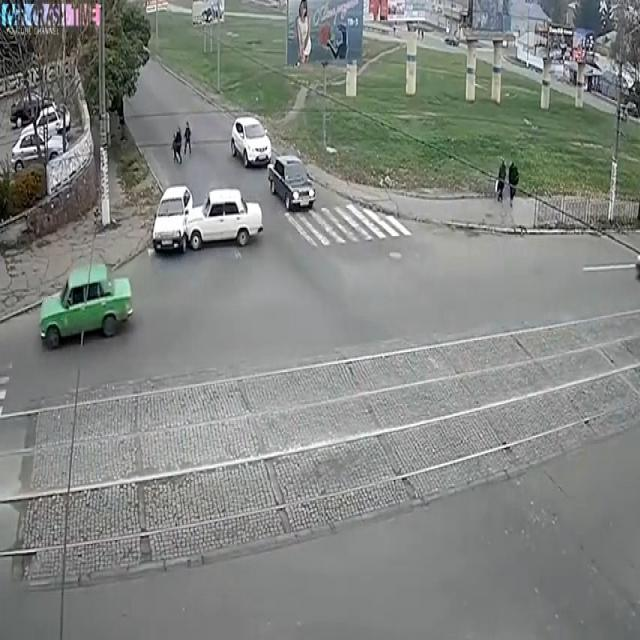Accident: (162, 172, 269, 278)
